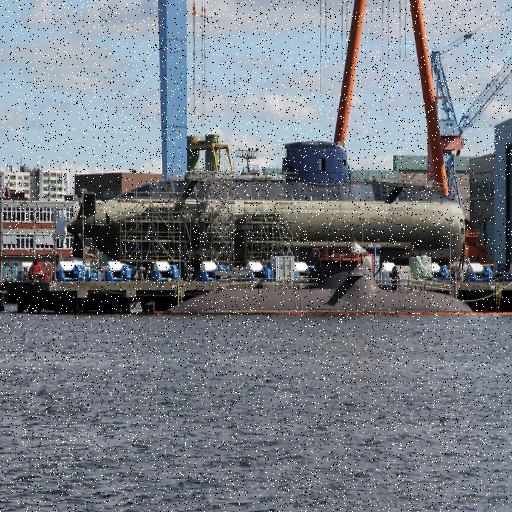submarine: (66, 142, 470, 255), (132, 259, 480, 312)
